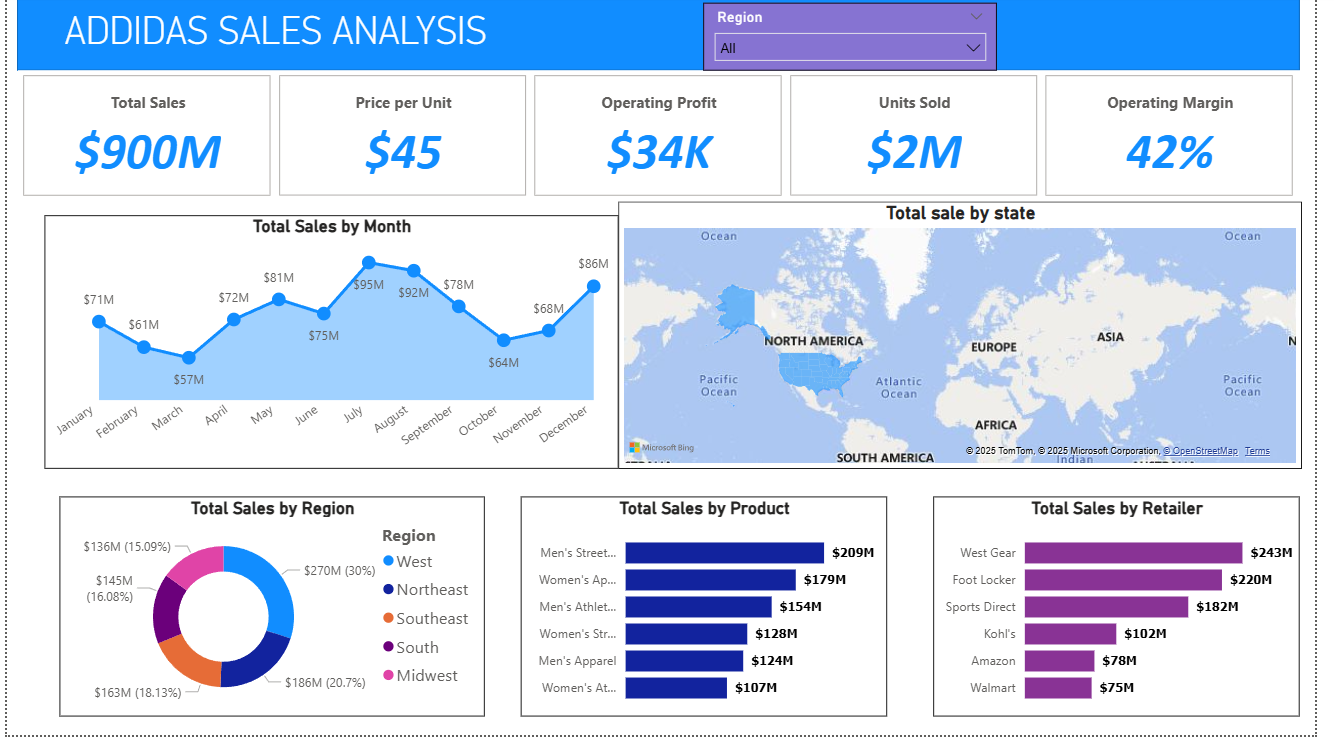

What the dashboard file says about the page in this screenshot:
{"tool":"powerbi","page":{"name":"Page 1","canvas":[1280,720],"ordinal":0},"visuals":[{"type":"shape","box":[10,0,1255,70],"z":0},{"type":"textbox","box":[50.8,4.1,516,65.9],"z":1000},{"type":"cardVisual","fields":{"Data":["Sum(Table1.Total Sales)","Avg(Table1.Price per Unit)","Avg(Table1.Operating Profit)","Sum(Table1.Units Sold)","Avg(Table1.Operating Margin)"]},"box":[11,69.7,1255.8,128.4],"z":2000},{"type":"areaChart","title":" Total Sales by Month","fields":{"Category":["Table1.Invoice Date.Variation.Date Hierarchy.Month"],"Y":["Sum(Table1.Total Sales)"]},"box":[36.7,211.6,561.3,248.2],"z":3000},{"type":"filledMap","title":"Total sale by state ","fields":{"Category":["Table1.State"]},"box":[598,198.1,668.9,261.7],"z":4000},{"type":"donutChart","title":"Total Sales by Region","fields":{"Category":["Table1.Region"],"Y":["Sum(Table1.Total Sales)"]},"box":[51.4,486.7,415.8,215.2],"z":5000},{"type":"barChart","title":" Total Sales by Product","fields":{"Category":["Table1.Product"],"Y":["Sum(Table1.Total Sales)"]},"box":[502.6,486.7,358.3,215.2],"z":6000},{"type":"barChart","title":" Total Sales by Retailer","fields":{"Category":["Table1.Retailer"],"Y":["Sum(Table1.Total Sales)"]},"box":[906.1,486.7,358.3,215.2],"z":7000},{"type":"slicer","fields":{"Values":["Table1.Region"]},"box":[681.1,3.7,287.4,66],"z":8000}]}

Visuals, with their boxes in screenshot pixels (x1, y1, x2, y2), scaled from the page's 1280x720 canvas onto the 1334x740 screenshot:
shape: bbox=[10, 0, 1318, 72]
textbox: bbox=[53, 4, 591, 72]
cardVisual - Sum(Table1.Total Sales) x Avg(Table1.Price per Unit): bbox=[11, 72, 1320, 204]
" Total Sales by Month" areaChart: bbox=[38, 217, 623, 473]
"Total sale by state " filledMap: bbox=[623, 204, 1320, 473]
"Total Sales by Region" donutChart: bbox=[54, 500, 487, 721]
" Total Sales by Product" barChart: bbox=[524, 500, 897, 721]
" Total Sales by Retailer" barChart: bbox=[944, 500, 1318, 721]
slicer - Table1.Region: bbox=[710, 4, 1009, 72]
